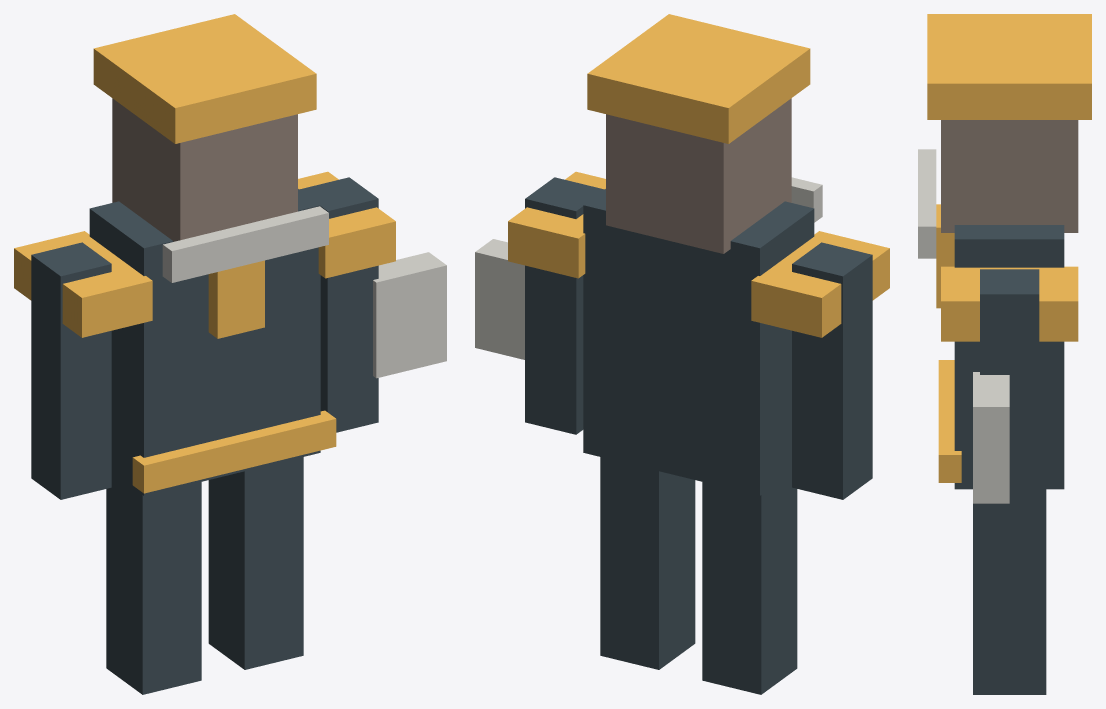
File: 04_keir_emberkin_guide_of_emergency.glb
The picture shows the model from 3 angles, left to right: view 1: azimuth 30°, elevation 25°; view 2: azimuth 150°, elevation 25°; view 3: azimuth 270°, elevation 25°; orthographic projection.
Visible parts, largest first — view 1: Keir Emberkin, Guide of Emergency; view 2: Keir Emberkin, Guide of Emergency; view 3: Keir Emberkin, Guide of Emergency.
Boxes of the visible parts, box(x1,y1,x2,y2) form: Keir Emberkin, Guide of Emergency: box(14, 14, 446, 694); Keir Emberkin, Guide of Emergency: box(475, 14, 889, 694); Keir Emberkin, Guide of Emergency: box(918, 14, 1091, 694).
Bounding box in the file's own units: 0.9541 × 1.43 × 0.3719.
